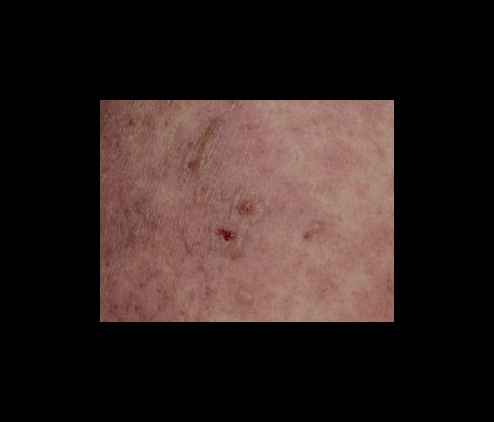SJS-TEN: (105, 93, 357, 345)
